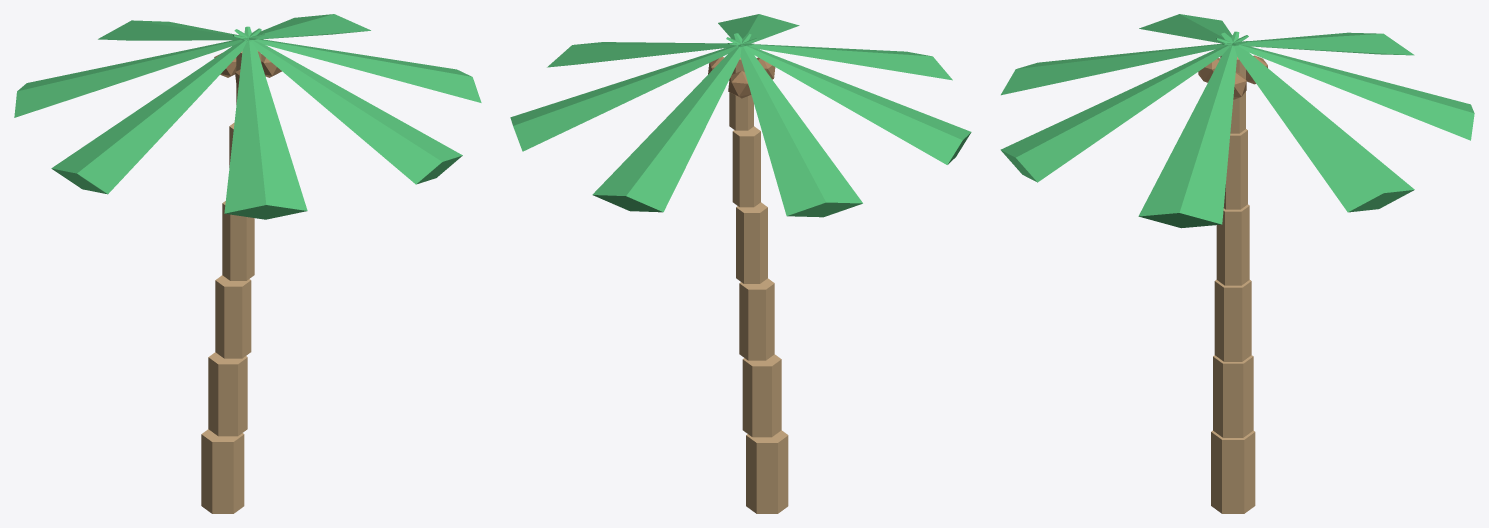
File: Palmera.fbx
3 renders of one model, left to right at view 1: azimuth 30°, elevation 25°; view 2: azimuth 150°, elevation 25°; view 3: azimuth 270°, elevation 25°, orthographic. The views are drawn at different scales.
Parts seen in each view (by area): view 1: Hoja3, Hoja2, Hoja4, Hoja1, Hoja5, Tronco0, Tronco1, Tronco2, Tronco3, Hoja0, Hoja6; view 2: Hoja1, Hoja0, Hoja2, Hoja6, Tronco0, Tronco1, Hoja3, Tronco2, Hoja5, Tronco3, Tronco4, Hoja4 (+1 smaller); view 3: Hoja5, Hoja6, Hoja4, Hoja0, Hoja3, Tronco0, Tronco1, Tronco2, Tronco3, Hoja1, Tronco4, Hoja2 (+1 smaller).
Part boxes in pixels (bbox=[...]): Hoja3: bbox=[224, 26, 307, 219]; Hoja2: bbox=[51, 28, 261, 194]; Hoja4: bbox=[234, 29, 462, 184]; Hoja1: bbox=[14, 33, 264, 117]; Hoja5: bbox=[233, 34, 481, 102]; Tronco0: bbox=[201, 429, 244, 513]; Tronco1: bbox=[208, 352, 247, 436]; Tronco2: bbox=[215, 275, 251, 358]; Tronco3: bbox=[222, 201, 254, 280]; Hoja0: bbox=[98, 20, 258, 40]; Hoja6: bbox=[241, 14, 370, 40]; Hoja1: bbox=[734, 33, 862, 217]; Hoja0: bbox=[592, 33, 751, 212]; Hoja2: bbox=[726, 37, 971, 164]; Hoja6: bbox=[510, 38, 757, 151]; Tronco0: bbox=[746, 430, 788, 513]; Tronco1: bbox=[742, 354, 781, 437]; Hoja3: bbox=[728, 43, 952, 80]; Tronco2: bbox=[739, 278, 774, 360]; Hoja5: bbox=[547, 42, 754, 67]; Tronco3: bbox=[736, 202, 767, 283]; Tronco4: bbox=[732, 126, 760, 207]; Hoja4: bbox=[718, 14, 799, 46]; Hoja5: bbox=[1138, 31, 1239, 228]; Hoja6: bbox=[1221, 32, 1414, 212]; Hoja4: bbox=[1000, 35, 1248, 182]; Hoja0: bbox=[1216, 38, 1474, 140]; Hoja3: bbox=[1001, 41, 1248, 95]; Tronco0: bbox=[1211, 430, 1255, 513]; Tronco1: bbox=[1213, 355, 1253, 437]; Tronco2: bbox=[1214, 280, 1251, 361]; Tronco3: bbox=[1216, 204, 1249, 285]; Hoja1: bbox=[1221, 32, 1414, 55]; Tronco4: bbox=[1223, 129, 1247, 209]; Hoja2: bbox=[1139, 14, 1238, 45].
Bounding box in the file's own units: 3.93 × 4.31 × 3.86.
